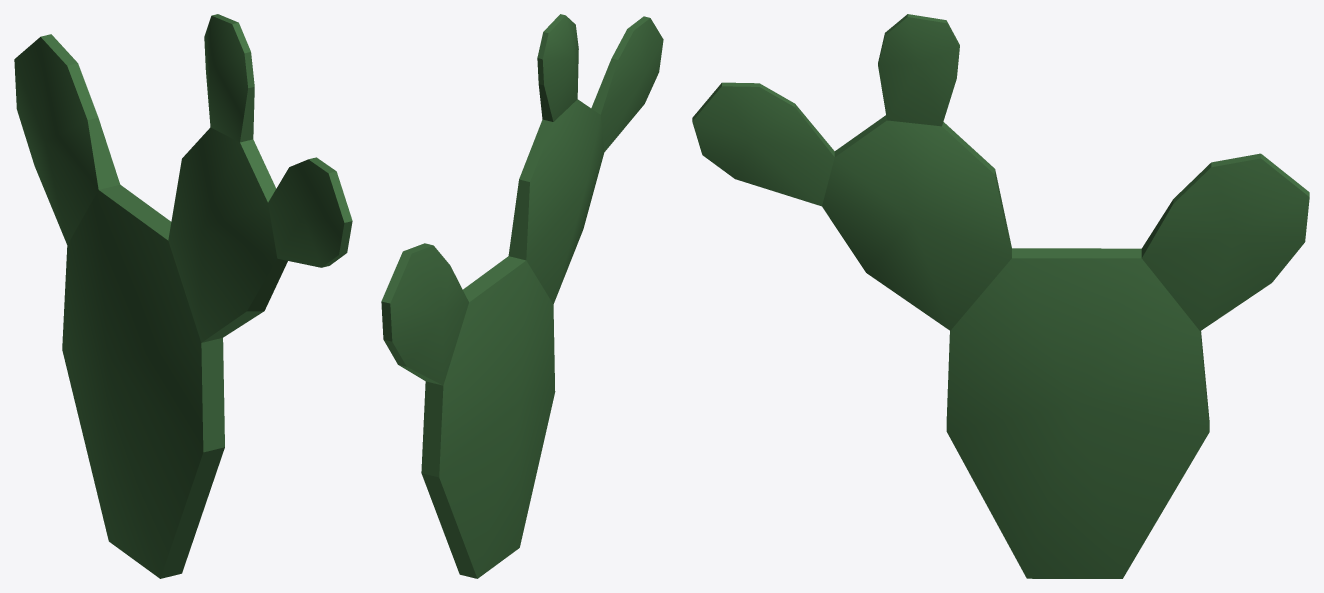
Rendered from D.cactus1.fbx.
The picture shows the model from 3 angles, left to right: view 1: azimuth 30°, elevation 25°; view 2: azimuth 150°, elevation 25°; view 3: azimuth 270°, elevation 25°; orthographic projection. The views are drawn at different scales.
Visible parts, largest first — view 1: pasted__pasted__pCylinder16; view 2: pasted__pasted__pCylinder16; view 3: pasted__pasted__pCylinder16.
Part boxes in pixels (x1=…): pasted__pasted__pCylinder16: x1=14, y1=14, x2=352, y2=578; pasted__pasted__pCylinder16: x1=381, y1=14, x2=663, y2=578; pasted__pasted__pCylinder16: x1=692, y1=14, x2=1309, y2=578.
Size of the model in its own units: 0.4023 by 2.71 by 2.71.
